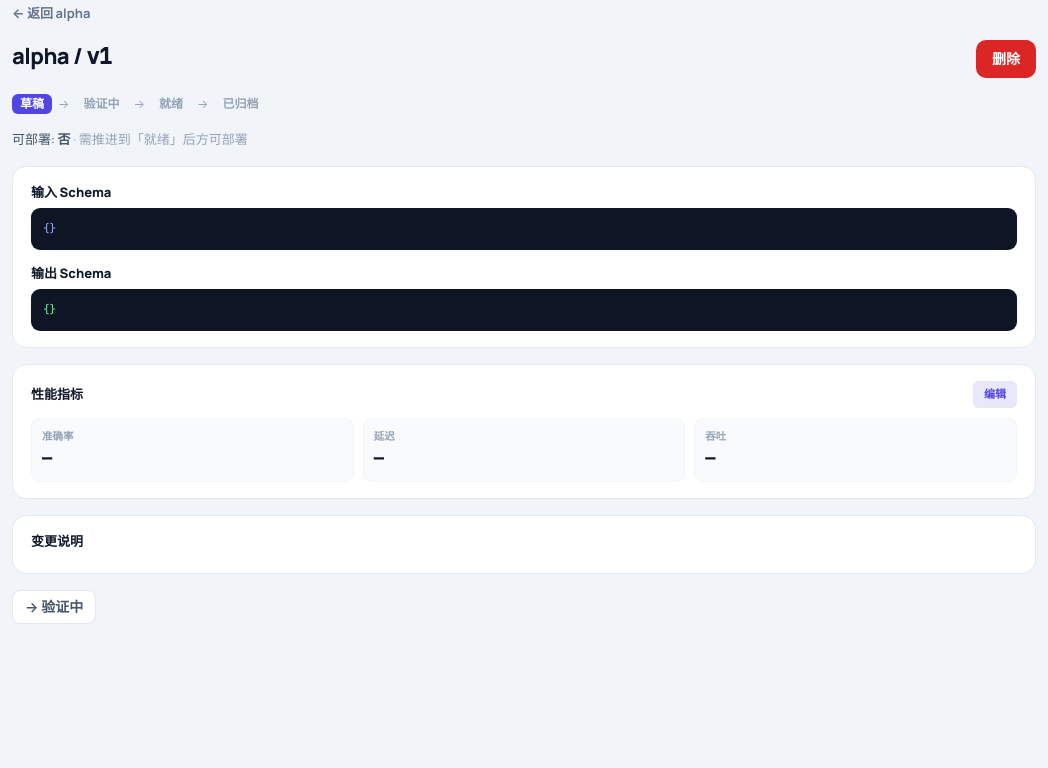
Test: VersionDetailPage 指标录入 › 默认指标为空(—),编辑→填入→保存调 setMetrics 并展示新值
The width and height of the screenshot is (1048, 768).
Expected: the text "—" is shown 3 times, [42,448,52,468]; [374,448,383,468]; [705,448,715,468]
Click the button with test id "edit-metrics".
click(995, 395)  # box [973,381,1017,408]
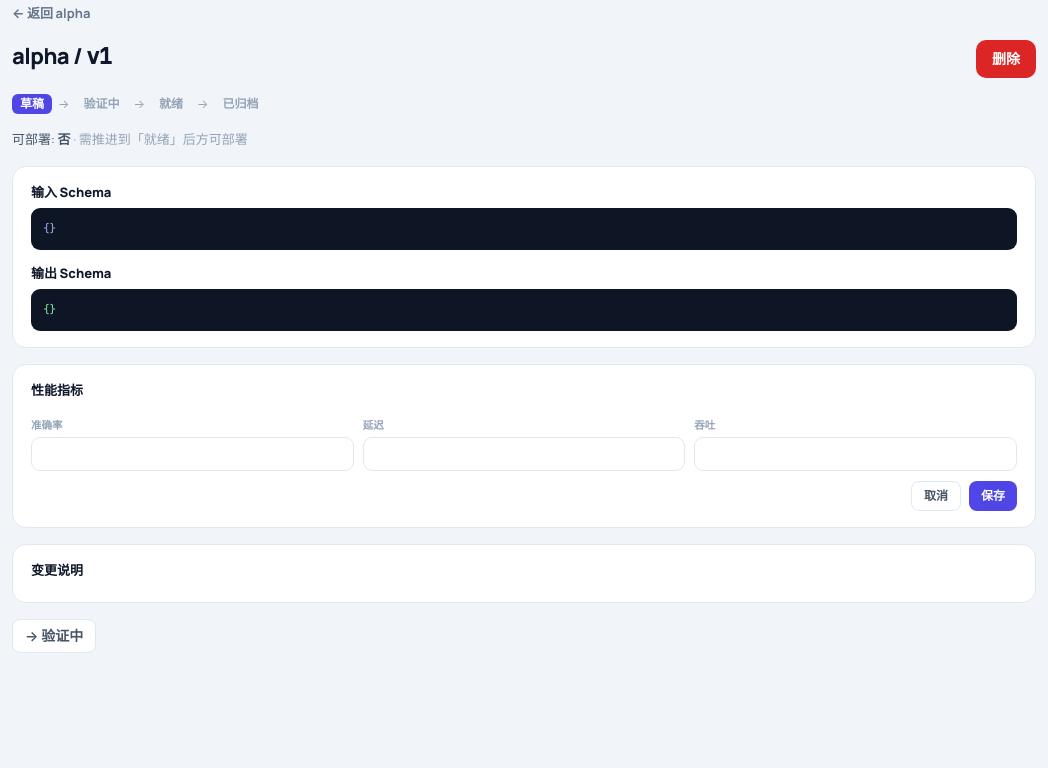
Type "0.95" into the number field with test id "metric-accuracy".
click(192, 454); type("0.95")  # box [31,437,354,471]
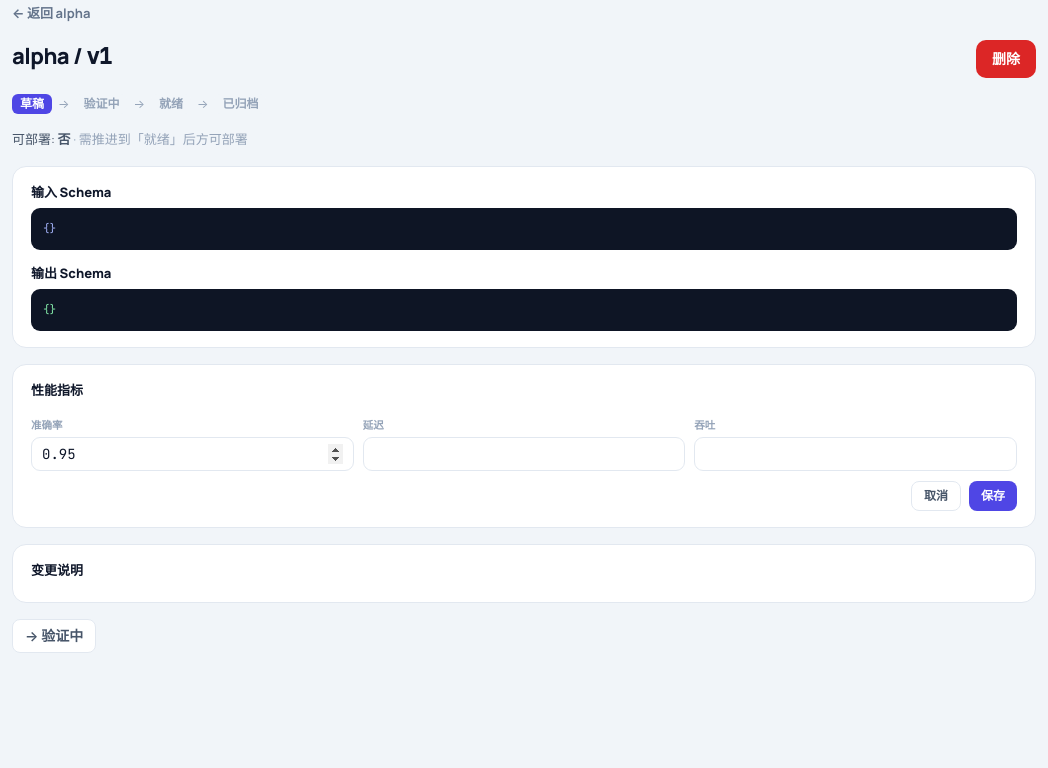
Click the button with test id "metrics-save".
click(993, 496)  # box [969,481,1017,511]
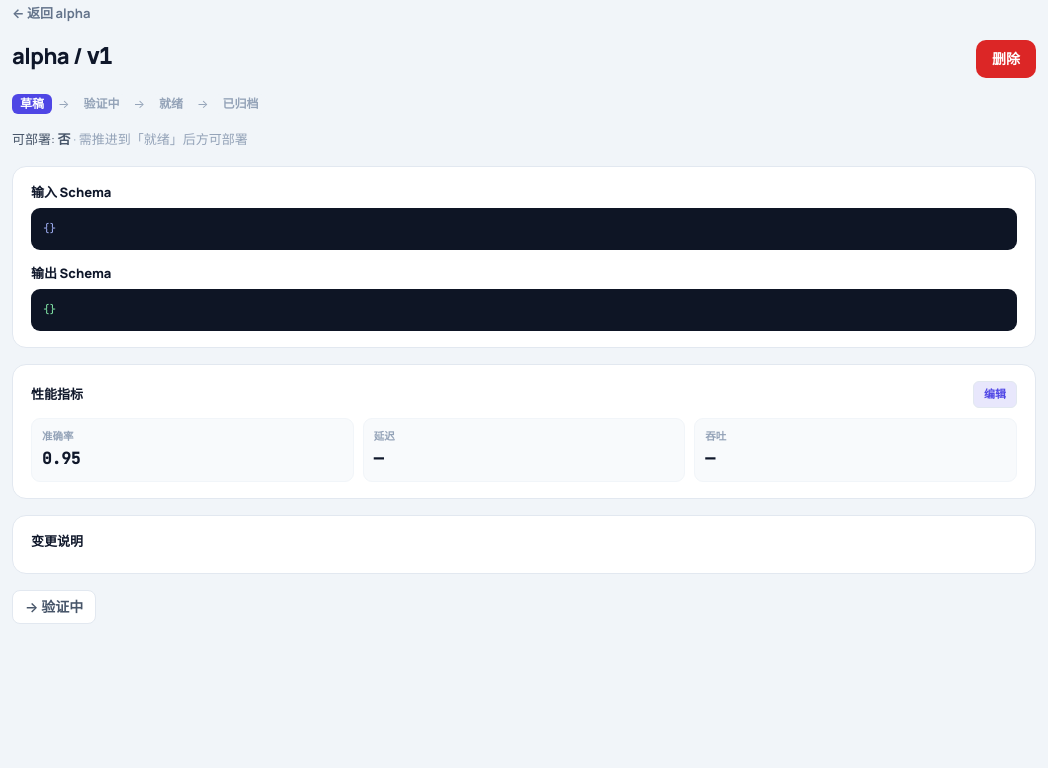
Now the text "0.95" is shown, box [42,448,80,468]
